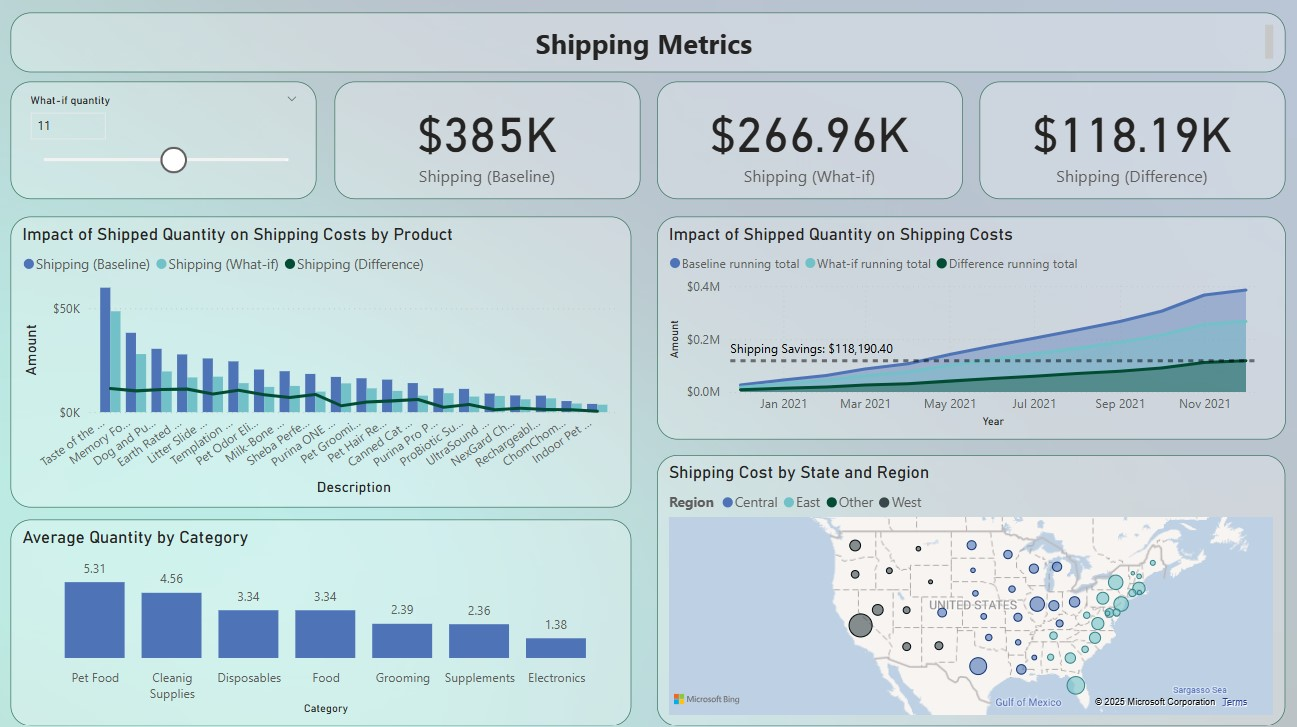

Layout of this report page (visuals, bound fields, positions):
{"tool":"powerbi","page":{"name":"Shipping Metrics","canvas":[1280,720],"ordinal":1},"visuals":[{"type":"slicer","fields":{"Values":["What-if quantity.What-if quantity"]},"box":[13.3,81.3,300,115],"z":0},{"type":"lineClusteredColumnComboChart","title":"Impact of Shipped Quantity on Shipping Costs by Product","fields":{"Category":["Sales.Description"],"Y":["Sales.Shipping (Baseline)","Sales.Shipping (What-if)"],"Y2":["Sales.Shipping (Difference)"]},"box":[13.3,212.7,608.3,285],"z":1000},{"type":"card","fields":{"Values":["Sales.Shipping (Baseline)"]},"box":[330.2,81.3,300,115],"z":2000},{"type":"card","fields":{"Values":["Sales.Shipping (What-if)"]},"box":[647,81.3,300,115],"z":3000},{"type":"card","fields":{"Values":["Sales.Shipping (Difference)"]},"box":[963.9,81.3,300,115],"z":4000},{"type":"areaChart","title":"Impact of Shipped Quantity on Shipping Costs","fields":{"Y":["Sales.Baseline running total","Sales.What-if running total","Sales.Difference running total"],"Category":["Sales.Transaction Date.Variation.Date Hierarchy.Year","Sales.Transaction Date.Variation.Date Hierarchy.Month"]},"box":[646.7,212.7,616.7,218.3],"z":5000},{"type":"map","title":"Shipping Cost by State and Region","fields":{"Size":["Sales.Shipping (Baseline)"],"Category":["State Mapping.State"],"Series":["State Mapping.Region"]},"box":[647.1,446.6,616.2,266.2],"z":6000},{"type":"textbox","box":[13.3,12.7,1250,58.3],"z":7000},{"type":"clusteredColumnChart","title":"Average Quantity by Category","fields":{"Y":["Avg(Sales.Quantity)"],"Category":["Products.Category"]},"box":[13.2,509.8,608.8,202.9],"z":8000}]}

Visuals, with their boxes in screenshot pixels (x1, y1, x2, y2), scaled from the page's 1280x720 canvas onto the 1297x727 screenshot:
slicer - What-if quantity.What-if quantity: [13,82,317,198]
"Impact of Shipped Quantity on Shipping Costs by Product" lineClusteredColumnComboChart: [13,215,630,503]
card - Sales.Shipping (Baseline): [335,82,639,198]
card - Sales.Shipping (What-if): [656,82,960,198]
card - Sales.Shipping (Difference): [977,82,1281,198]
"Impact of Shipped Quantity on Shipping Costs" areaChart: [655,215,1280,435]
"Shipping Cost by State and Region" map: [656,451,1280,720]
textbox: [13,13,1280,72]
"Average Quantity by Category" clusteredColumnChart: [13,515,630,720]
